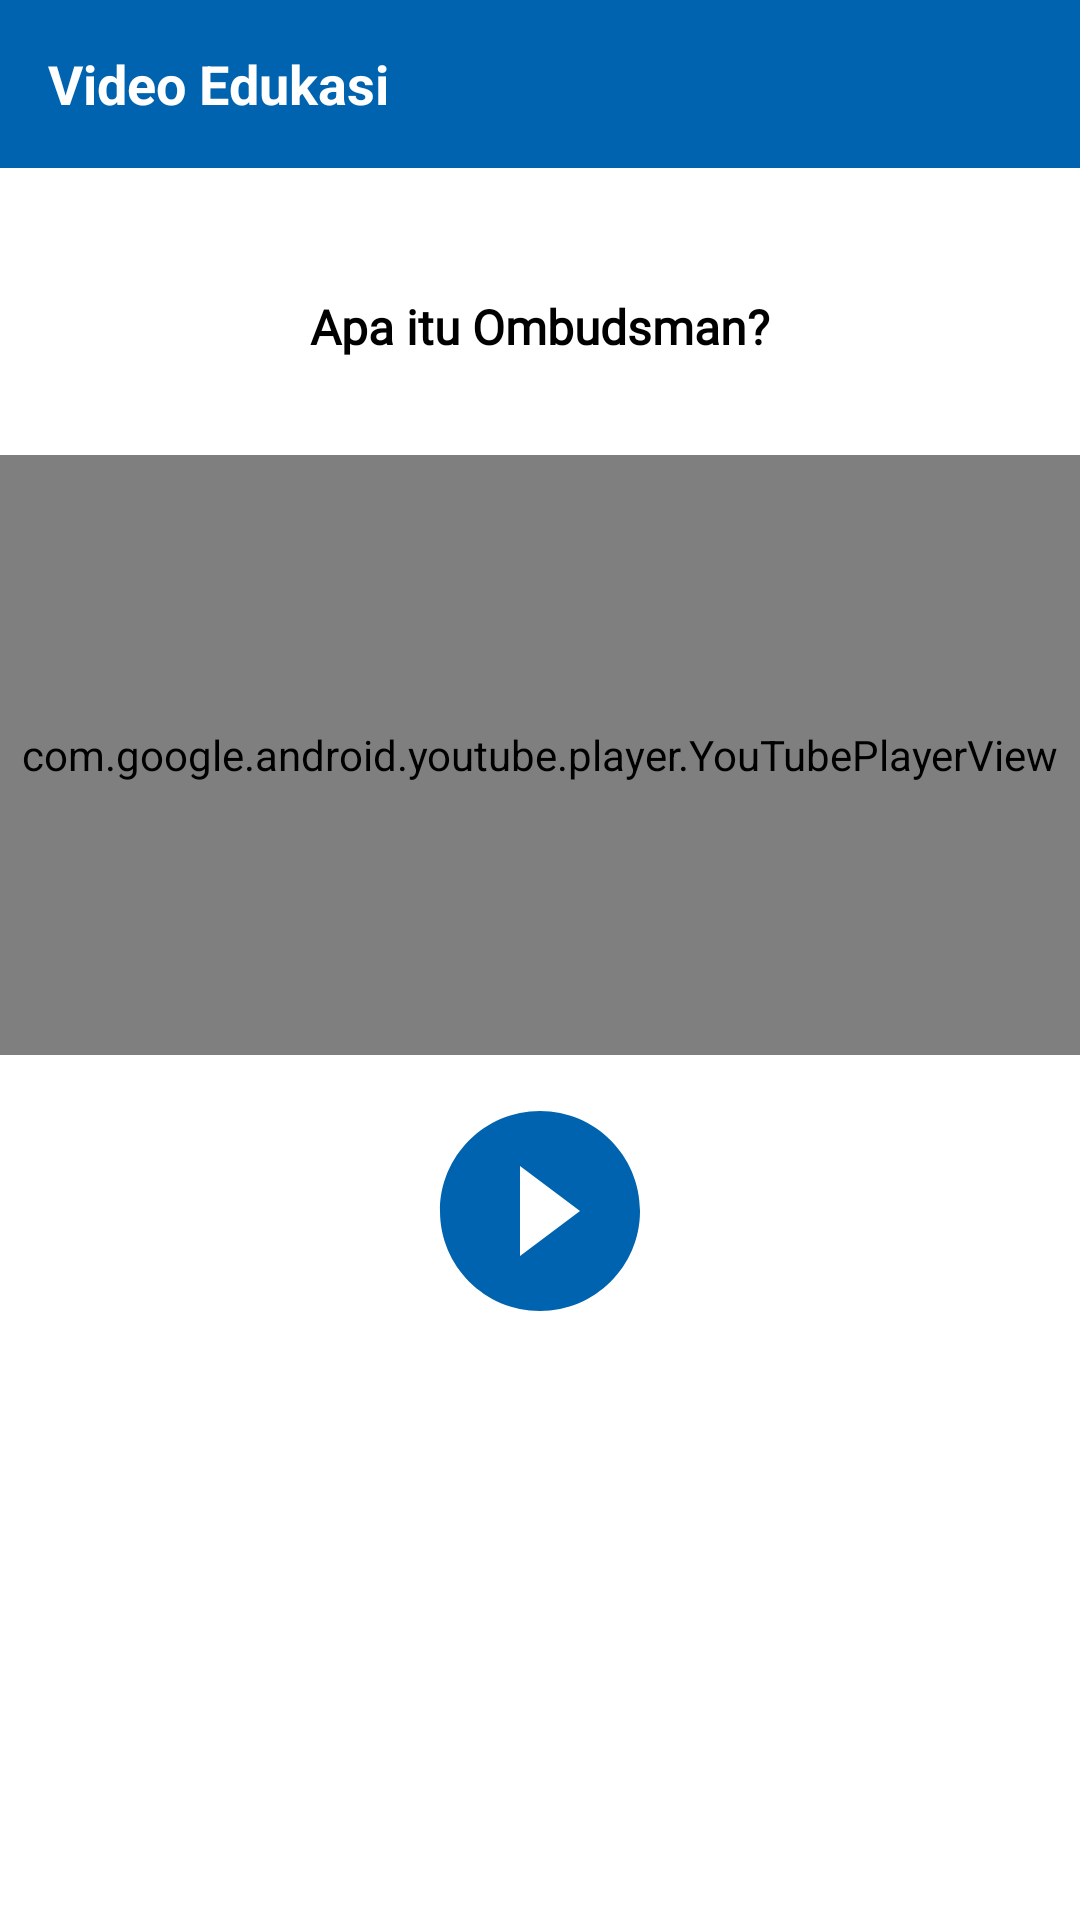

Screen size 1080w x 1920h. Icon name, then its center in pixels as [x,y]:
play circle: [539,1211]
